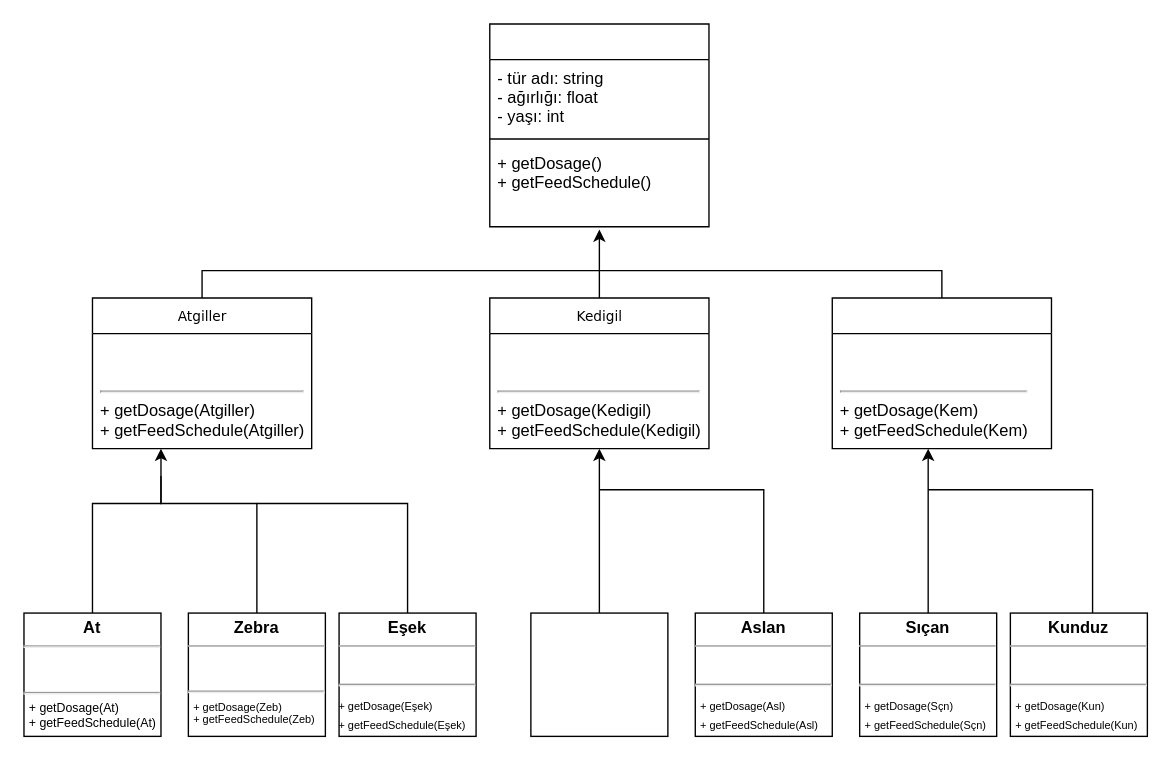
Image size: 1171x760. Some labels were removed from this diagram. The shapes that lost their labels are listed below. From the top down, each one's box as (x1, y1, x2, y2) in pixels, then its label:
(488, 23, 709, 227): Hayvanlar
(831, 297, 1051, 449): Kemirgen
(530, 612, 668, 736): Kaplan + getDosage(Kap) + getFeedSchedule(Kap)
